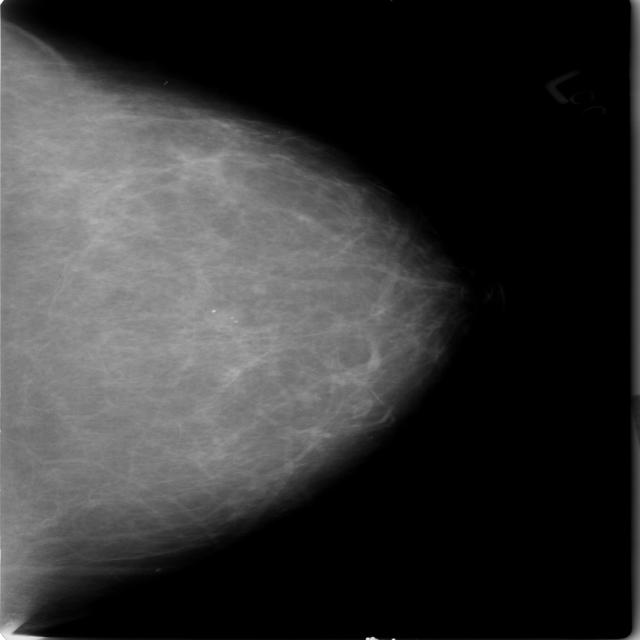normal: (0, 0, 461, 593)
